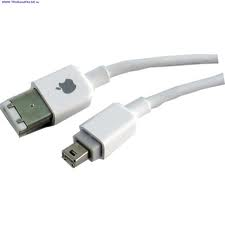Apple: (50, 71, 83, 101)
